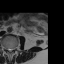CCS_severe_stenosis: (9, 46, 11, 54)
LFS_stenosis: (13, 46, 15, 52)
LLS_normal: (11, 46, 13, 53)
RFS_normal: (5, 45, 7, 53)
RLS_normal: (7, 46, 9, 53)
